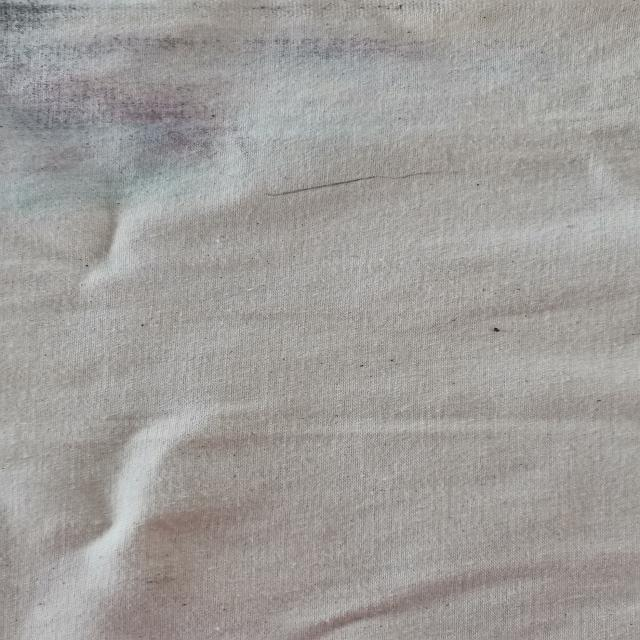taaaches: (4, 3, 605, 216)
